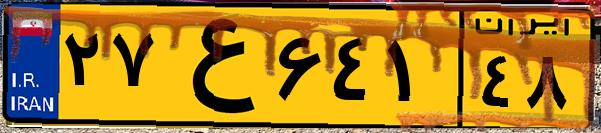1: (385, 28, 445, 110)
2: (57, 26, 110, 100)
4: (330, 28, 385, 110), (475, 38, 525, 113)
6: (270, 28, 330, 110)
7: (110, 28, 158, 98)
8: (525, 38, 570, 115)
ع: (158, 12, 270, 120)
